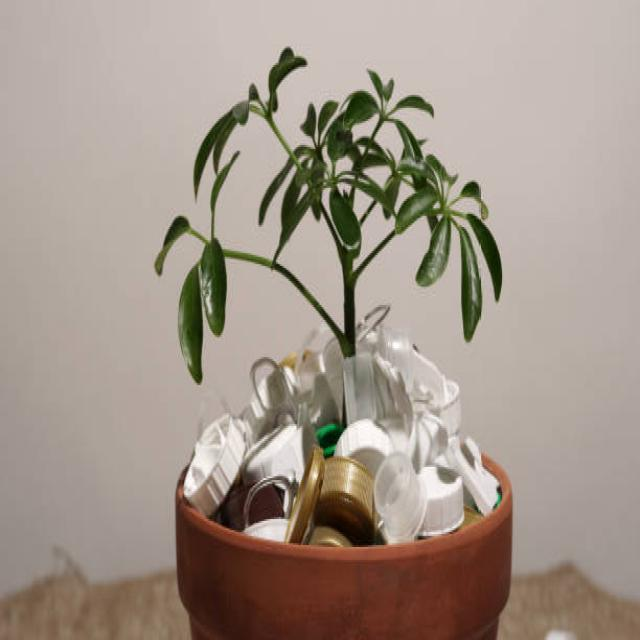plastic: (200, 331, 452, 527)
